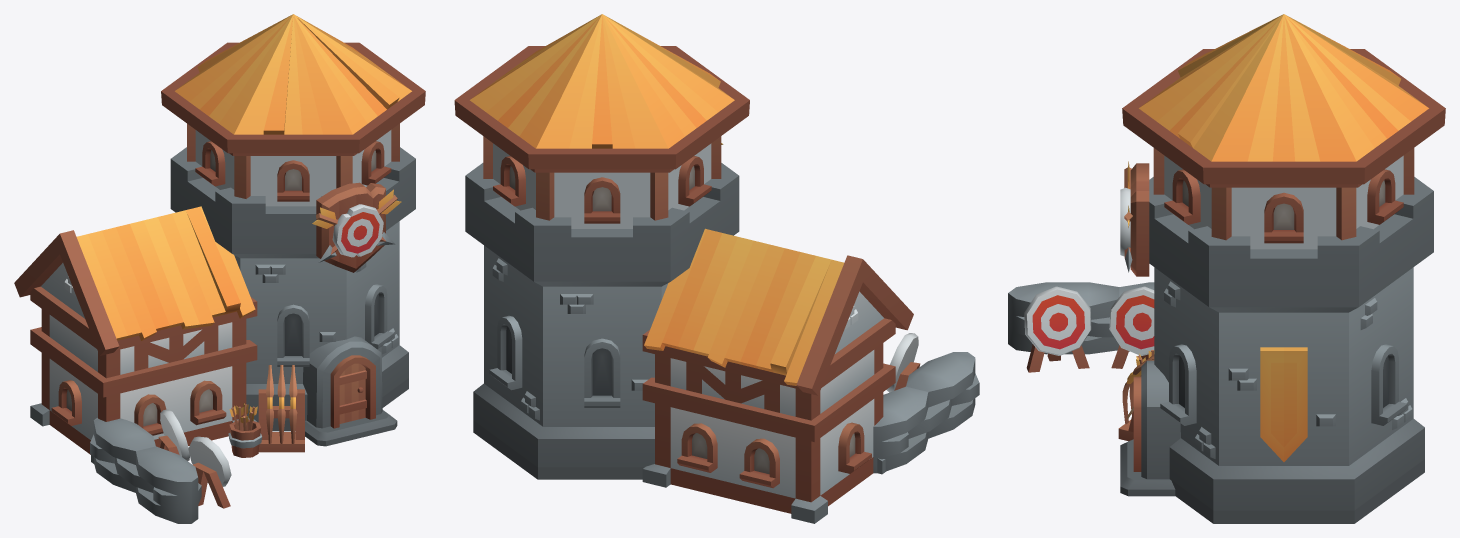
Rendered from building_archeryrange_yellow.glb.
3 views of the same model, side by side, from view 1: azimuth 30°, elevation 25°; view 2: azimuth 150°, elevation 25°; view 3: azimuth 270°, elevation 25° (orthographic). The views are drawn at different scales.
Visible parts, largest first — view 1: building_archeryrange_yellow; view 2: building_archeryrange_yellow; view 3: building_archeryrange_yellow.
Part boxes in pixels (x1,y1,x2,y2): building_archeryrange_yellow: [14, 14, 425, 523]; building_archeryrange_yellow: [454, 14, 979, 523]; building_archeryrange_yellow: [1008, 14, 1445, 523].
Bounding box in the file's own units: 1.67 × 1.79 × 1.55.
Materials: 1 (1 with a texture image).
